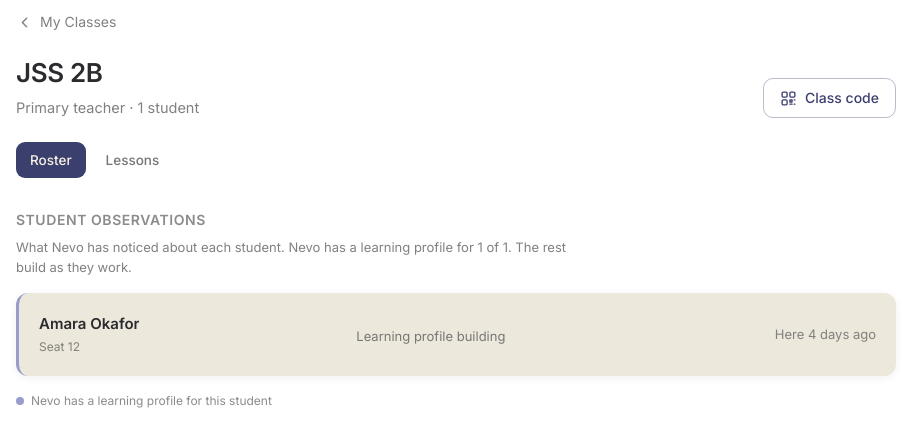
Scenario: the Lessons tab › tells a teacher nothing is set yet when the read succeeded and is empty
Click the tab "lessons": (132, 160) [92,142,173,178]
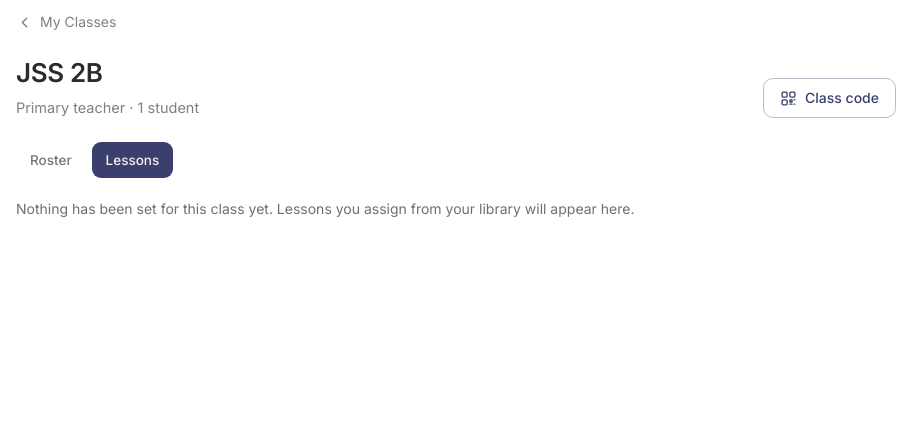
Result: the text "Nothing has been set for this class yet" is shown at [16,200,634,217]
